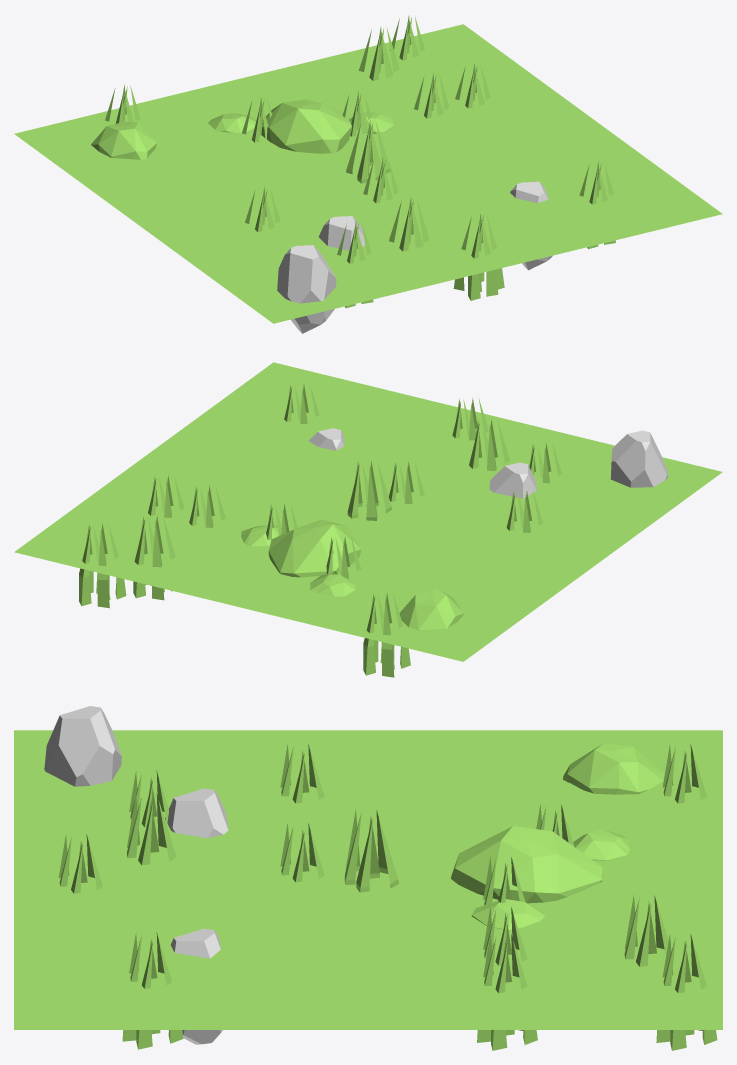
The model's file is grass-composition1 (1).fbx.
3 views of the same model, one above another, from view 1: azimuth 30°, elevation 25°; view 2: azimuth 150°, elevation 25°; view 3: azimuth 270°, elevation 25° (orthographic). The views are drawn at different scales.
Visible parts, largest first — view 1: Plane, Bush1.2, Stone1.1, Bush1.1, Grass.013, Grass, Stone1.002, Grass.003, Grass.004, Stone1.003, Grass.002, Grass.001 (+8 smaller); view 2: Plane, Bush1.2, Stone1.1, Bush1.1, Grass.010, Grass.009, Grass.004, Grass, Stone1.002, Grass.003, Grass.008, Grass.005 (+7 smaller); view 3: Plane, Bush1.2, Stone1.1, Bush1.1, Stone1.002, Grass, Grass.008, Grass.009, Grass.003, Grass.001, Grass.004, Stone1.003 (+7 smaller).
Part boxes in pixels (<box>): Plane: <box>14,24,722,323</box>; Bush1.2: <box>208,99,394,153</box>; Stone1.1: <box>277,245,336,333</box>; Bush1.1: <box>91,122,156,159</box>; Grass.013: <box>453,213,504,300</box>; Grass: <box>346,120,390,183</box>; Stone1.002: <box>318,216,365,250</box>; Grass.003: <box>389,197,429,251</box>; Grass.004: <box>359,27,399,80</box>; Stone1.003: <box>510,181,552,270</box>; Grass.002: <box>337,221,373,308</box>; Grass.001: <box>579,161,615,249</box>; Plane: <box>14,362,722,661</box>; Bush1.2: <box>241,519,361,596</box>; Stone1.1: <box>610,430,668,487</box>; Bush1.1: <box>399,588,463,630</box>; Grass.010: <box>363,592,410,677</box>; Grass.009: <box>79,523,126,608</box>; Grass.004: <box>133,516,175,600</box>; Grass: <box>347,461,392,520</box>; Stone1.002: <box>489,462,536,498</box>; Grass.003: <box>469,419,510,470</box>; Grass.008: <box>148,475,184,517</box>; Grass.005: <box>189,485,225,527</box>; Plane: <box>14,730,722,1029</box>; Bush1.2: <box>451,826,629,930</box>; Stone1.1: <box>44,706,121,786</box>; Bush1.1: <box>563,743,664,794</box>; Stone1.002: <box>165,788,228,838</box>; Grass: <box>344,809,398,892</box>; Grass.008: <box>477,934,537,1050</box>; Grass.009: <box>656,934,717,1050</box>; Grass.003: <box>126,793,176,865</box>; Grass.001: <box>122,932,183,1049</box>; Grass.004: <box>624,895,674,966</box>; Stone1.003: <box>168,928,222,1044</box>.
Size of the model in its own units: 200 by 52.69 by 200.
